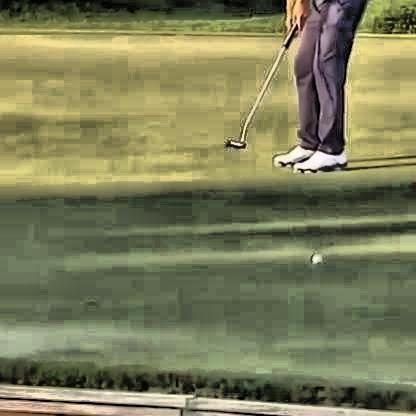golfball: (309, 250, 319, 261)
